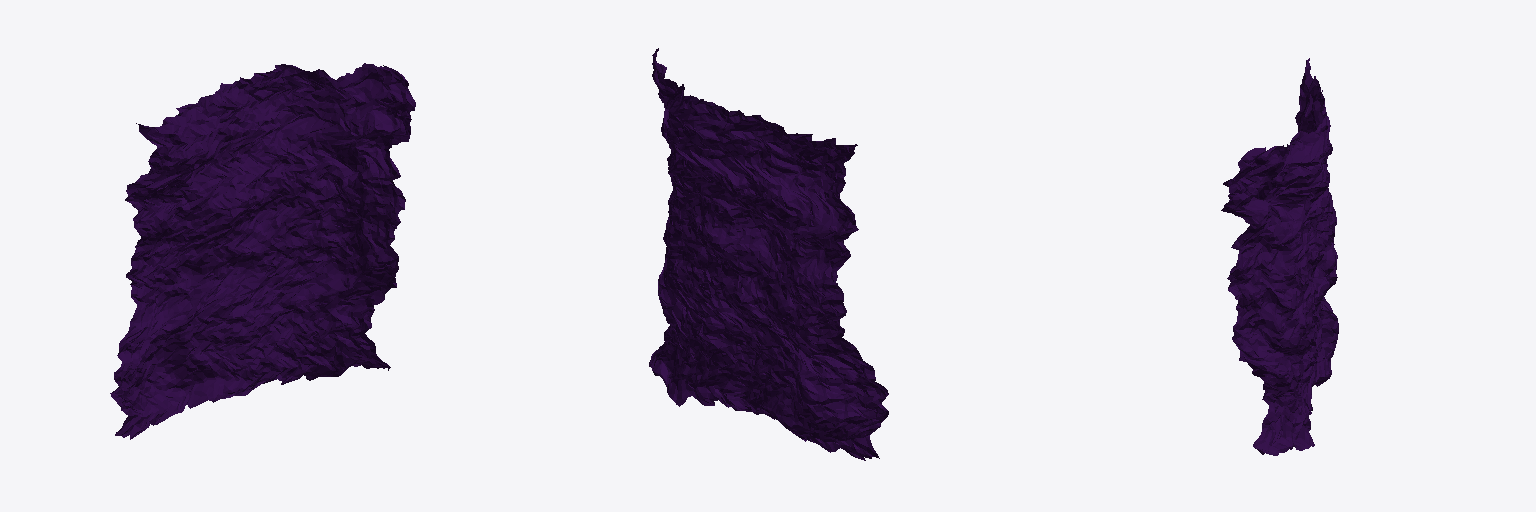
The model's file is LARFABAR.obj.
The picture shows the model from 3 angles: view 1: azimuth 30°, elevation 25°; view 2: azimuth 150°, elevation 25°; view 3: azimuth 270°, elevation 25°; orthographic projection.
Visible parts, largest first — view 1: Plane003; view 2: Plane003; view 3: Plane003.
Part boxes in pixels (x1,y1,x2,y2): Plane003: (110,63,415,439); Plane003: (649,48,888,460); Plane003: (1221,58,1338,455).
Size of the model in its own units: 265 by 317 by 101.